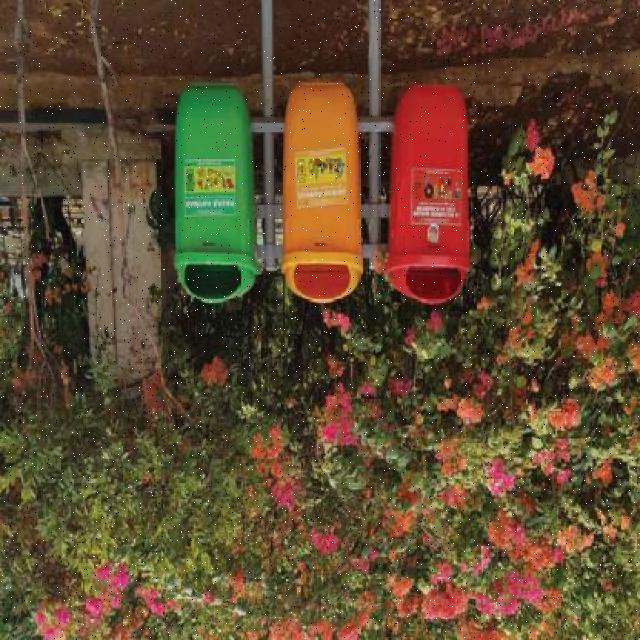garbage container: (171, 73, 267, 312), (387, 75, 480, 313), (280, 65, 369, 305)
